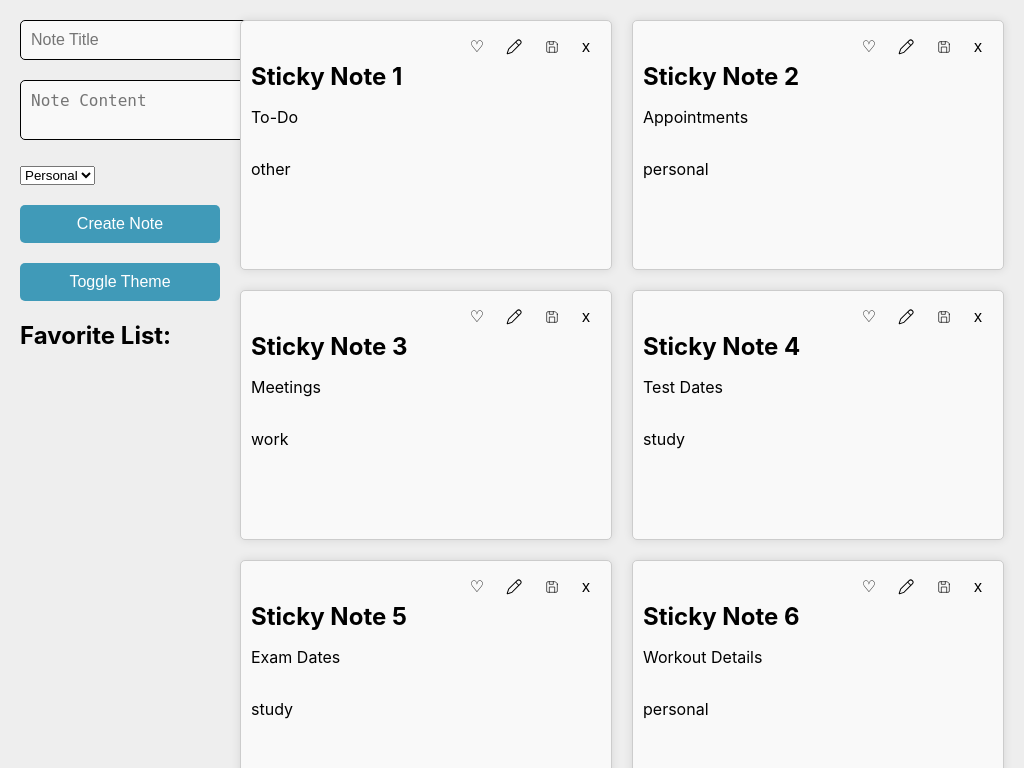
Test: Create, Display, Edit, Delete Stickynote › deletes a note correctly
Simulate clicking delete button
Click the 1st button "x" at {"x": 586, "y": 46}, box [571,31,601,62]
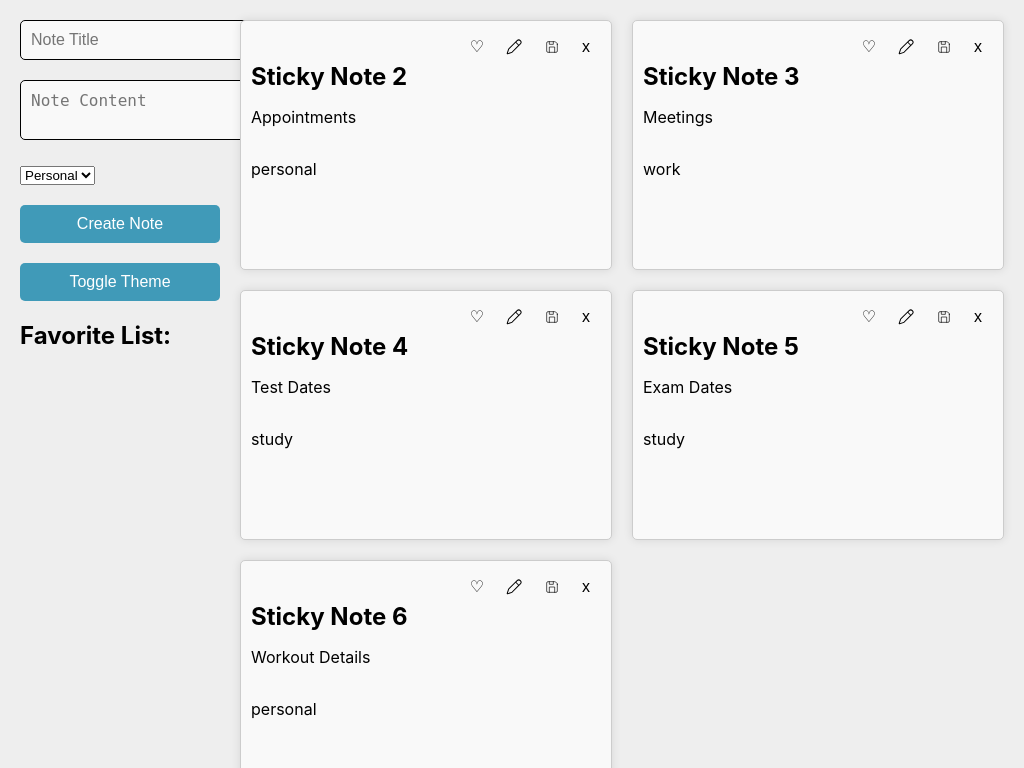
Expected: the heading "Sticky Note 1" is gone
